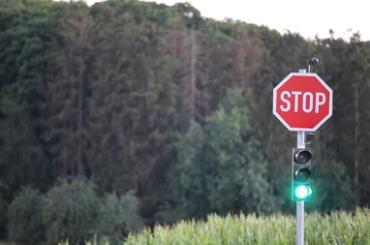green_light: (291, 148, 312, 200)
